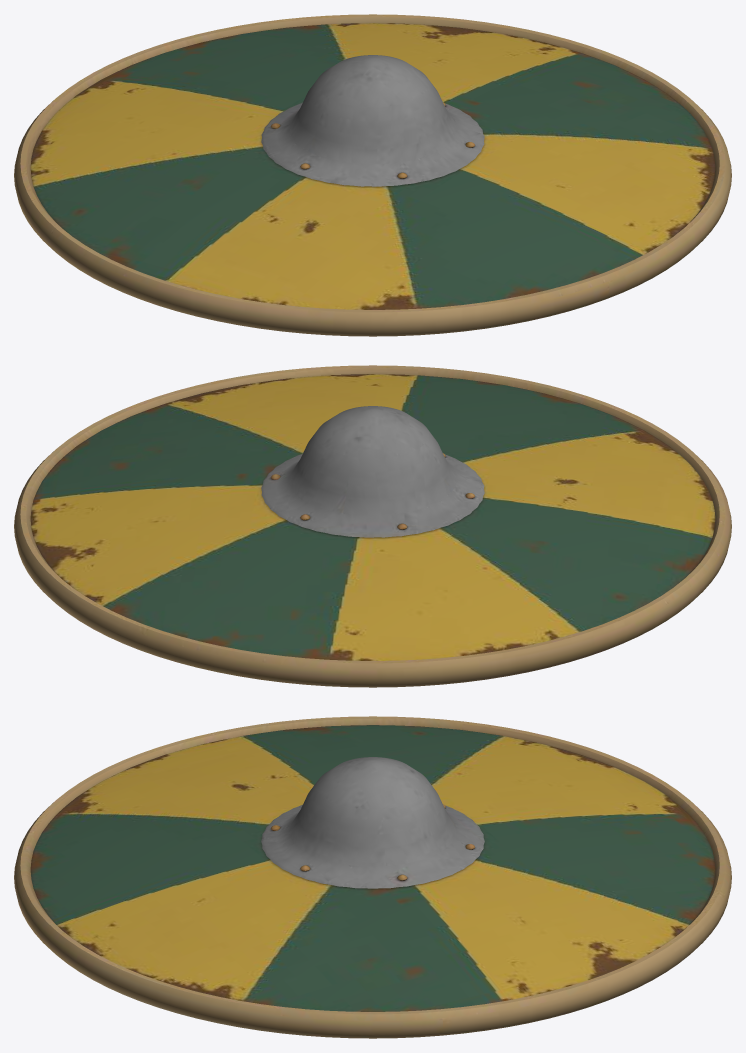
The model's file is shield_round.glb.
3 views of the same model, one above another, from view 1: azimuth 30°, elevation 25°; view 2: azimuth 150°, elevation 25°; view 3: azimuth 270°, elevation 25° (orthographic).
Visible parts, largest first — view 1: shield_round; view 2: shield_round; view 3: shield_round.
Part boxes in pixels (x1=…): shield_round: x1=14, y1=14, x2=731, y2=336; shield_round: x1=14, y1=365, x2=731, y2=687; shield_round: x1=14, y1=716, x2=731, y2=1038.
Size of the model in its own units: 0.616 by 0.1213 by 0.616.
1 material, 1 textured.
